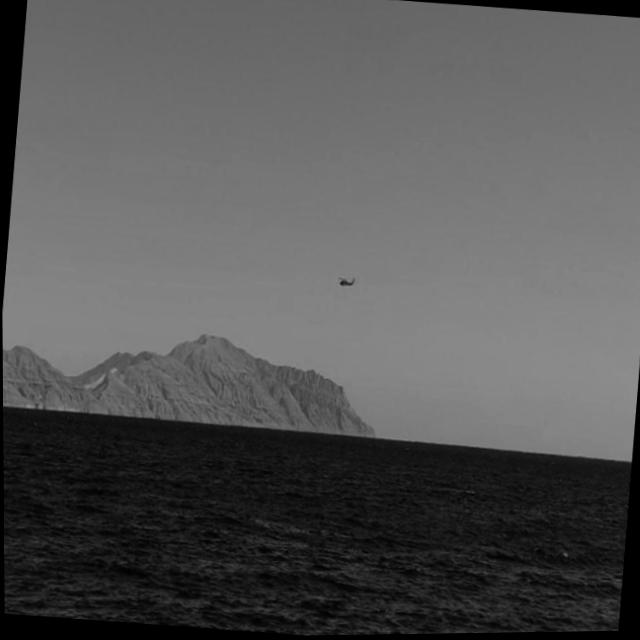helikopter: (327, 255, 371, 305)
